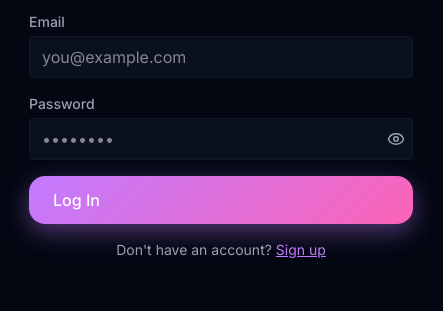
Test: LoginForm › shows error message on login failure
In the field labelled "Email": (221, 57) [29,36,413,78], type "test@example.com"
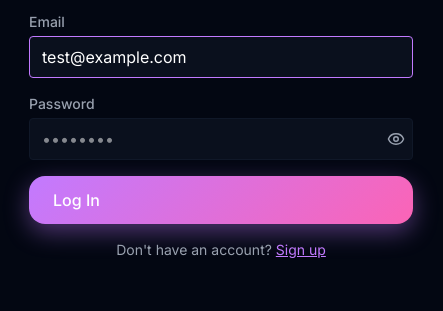
In the password field labelled "Password": (221, 139) [29,118,413,160], type "wrongpassword"
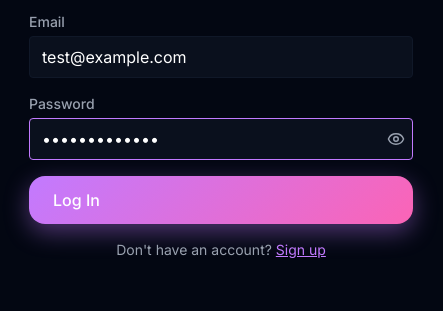
Click the button "Log In": click(76, 200) [29,176,413,224]
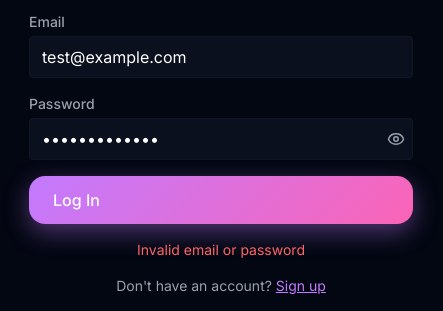
Expected: the message reads "Invalid email or password", [137,241,305,258]
